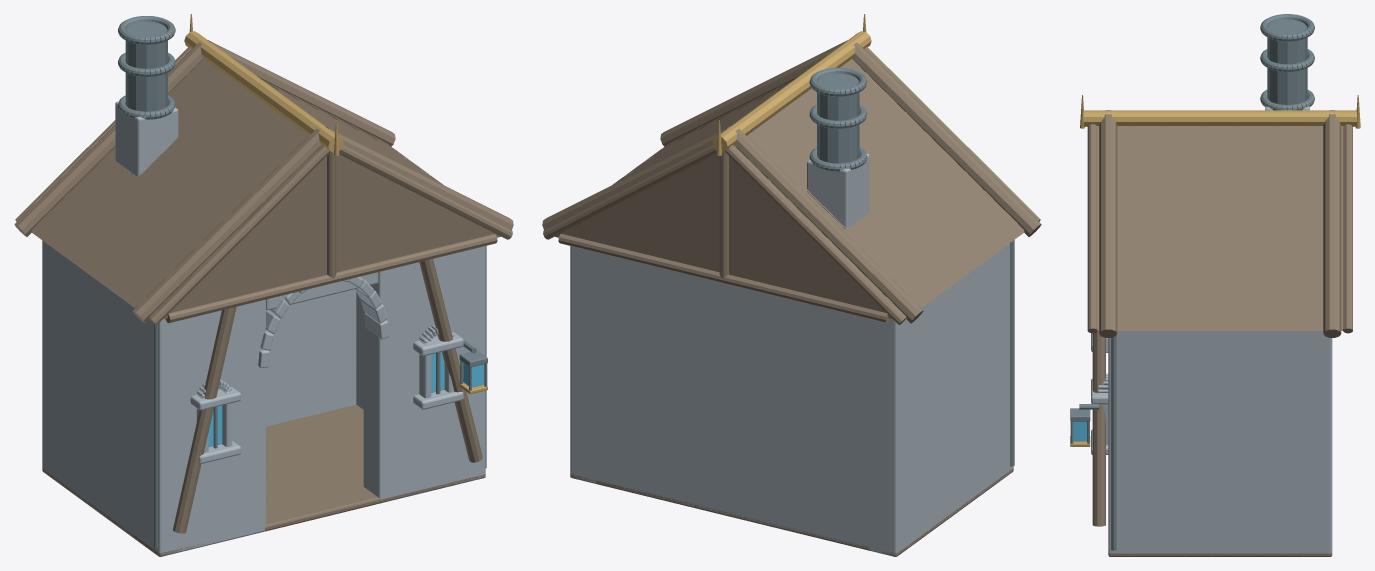
Rendered from a3_service_2.glb.
3 renders of one model, left to right at view 1: azimuth 30°, elevation 25°; view 2: azimuth 150°, elevation 25°; view 3: azimuth 270°, elevation 25°, orthographic. The views are drawn at different scales.
Parts seen in each view (by area): view 1: Roof.008, Front.008, Side.008, Body.017; view 2: Body.017, Roof.008, Side.008; view 3: Roof.008, Side.008, Body.017, Front.008.
Part boxes in pixels (box(x1,y1,x2,y2)): Roof.008: box(14, 14, 513, 324); Front.008: box(144, 246, 487, 556); Side.008: box(42, 241, 486, 556); Body.017: box(42, 240, 485, 556); Body.017: box(570, 246, 1013, 556); Roof.008: box(542, 14, 1041, 324); Side.008: box(571, 240, 1014, 555); Roof.008: box(1080, 14, 1360, 337); Side.008: box(1108, 331, 1330, 555); Body.017: box(1108, 331, 1332, 556); Front.008: box(1070, 331, 1137, 556).
Bounding box in the file's own units: 3.69 × 4.13 × 2.59.
